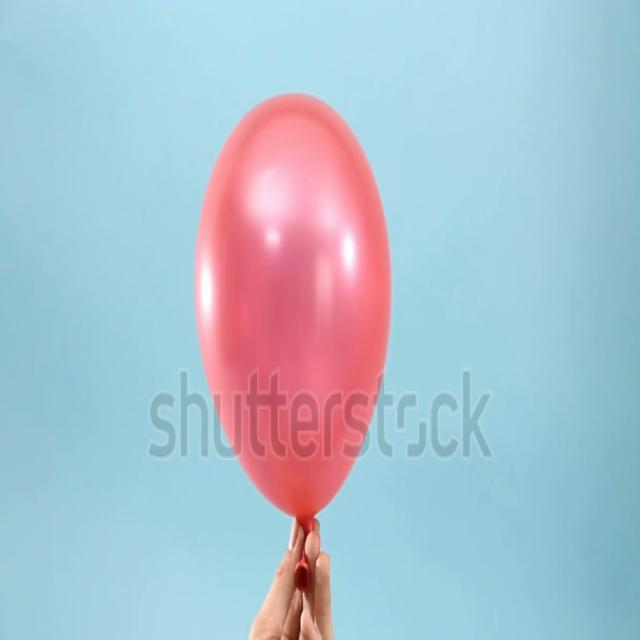red: (192, 90, 392, 588)
